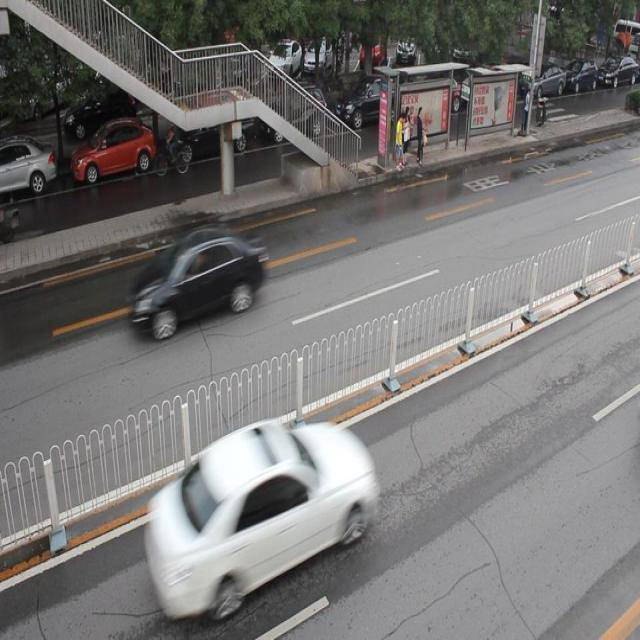car: (143, 417, 378, 618), (126, 226, 268, 344), (70, 118, 160, 181), (164, 106, 255, 159), (334, 76, 399, 133), (260, 86, 327, 140), (1, 138, 58, 199)
